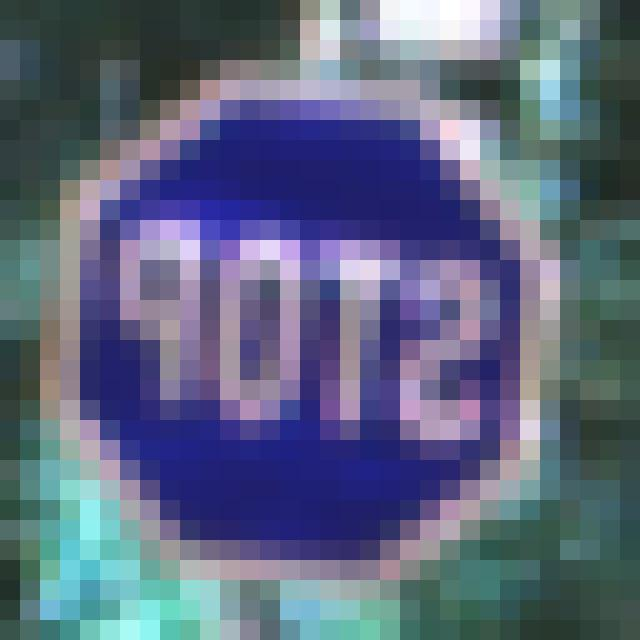STOP: (82, 107, 528, 556)
